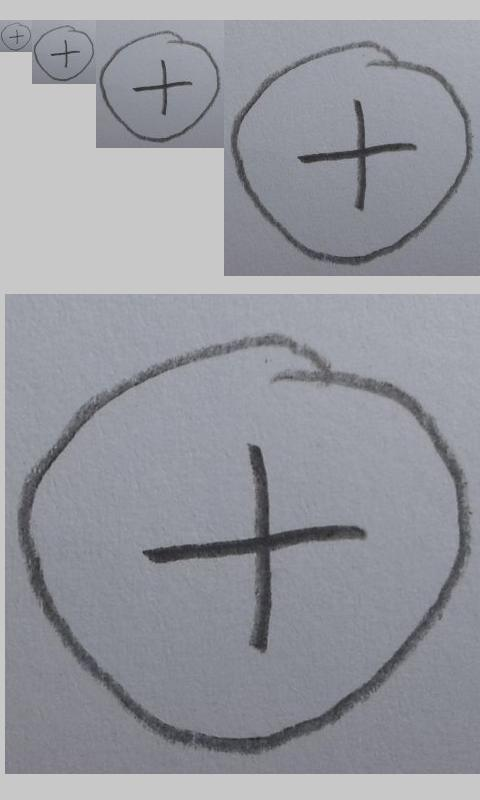button: (17, 330, 472, 753), (231, 40, 474, 264), (99, 30, 221, 143), (33, 25, 94, 81), (1, 22, 31, 51)
